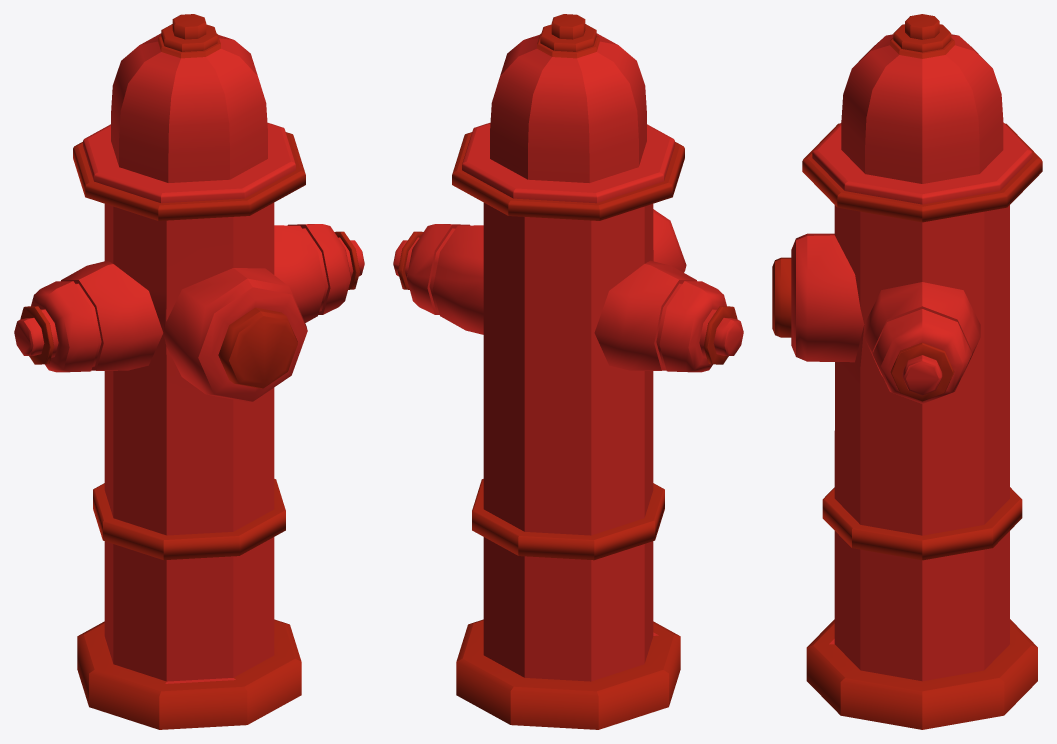
File: FireHydrant.fbx
3 views of the same model, side by side, from view 1: azimuth 30°, elevation 25°; view 2: azimuth 150°, elevation 25°; view 3: azimuth 270°, elevation 25° (orthographic).
Visible parts, largest first — view 1: FireHydrant; view 2: FireHydrant; view 3: FireHydrant.
Part boxes in pixels (left/top/right/bottom): FireHydrant: left=14, top=14, right=364, bottom=729; FireHydrant: left=393, top=14, right=743, bottom=729; FireHydrant: left=772, top=14, right=1042, bottom=729.
Bounding box in the file's own units: 46.54 × 88.22 × 32.7.
